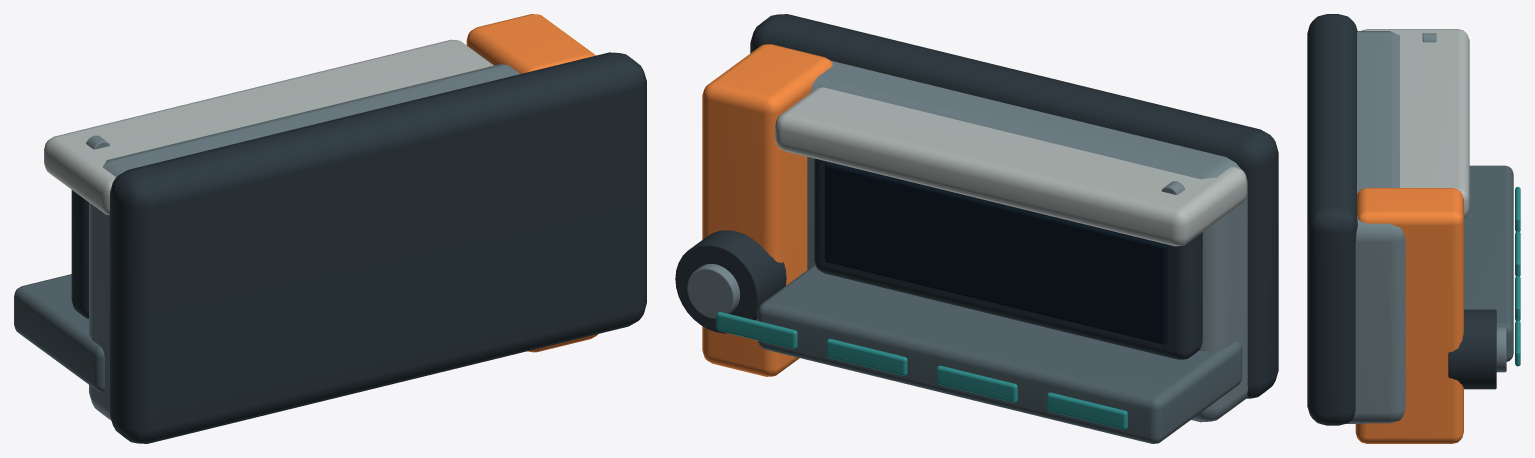
Rendered from SM_StellarDock_Body.fbx.
3 renders of one model, left to right at view 1: azimuth 30°, elevation 25°; view 2: azimuth 150°, elevation 25°; view 3: azimuth 270°, elevation 25°, orthographic. The views are drawn at different scales.
Visible parts, largest first — view 1: SM_StellarDock_Body; view 2: SM_StellarDock_Body; view 3: SM_StellarDock_Body.
Part boxes in pixels (x1,y1,x2,y2): SM_StellarDock_Body: (14,14,646,443); SM_StellarDock_Body: (675,14,1278,443); SM_StellarDock_Body: (1307,14,1520,443).
Size of the model in its own units: 173 by 75 by 93.
